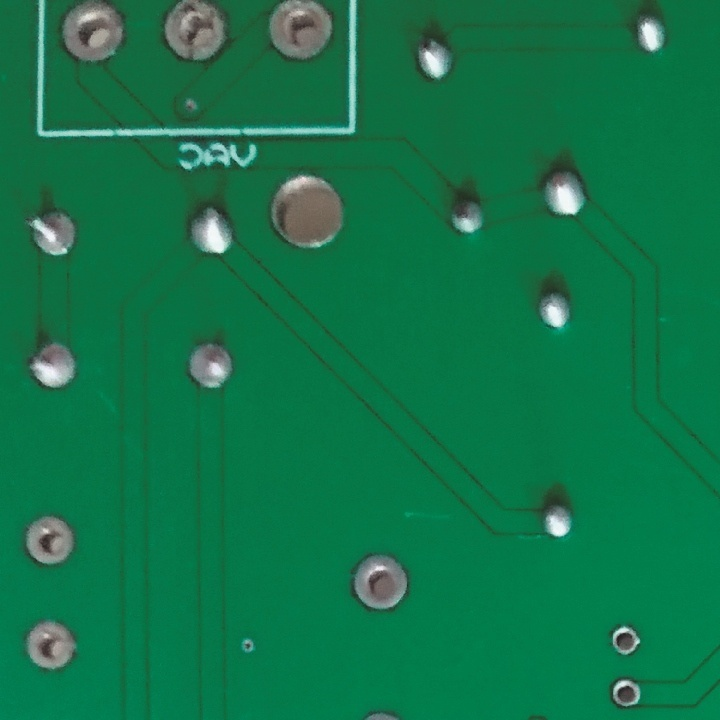F: (57, 1, 129, 68), (160, 1, 230, 66), (265, 1, 333, 67), (350, 549, 413, 614), (23, 204, 80, 262), (21, 512, 78, 570), (22, 618, 80, 673), (23, 337, 79, 393), (184, 340, 241, 393), (608, 676, 646, 712), (608, 620, 642, 660)
